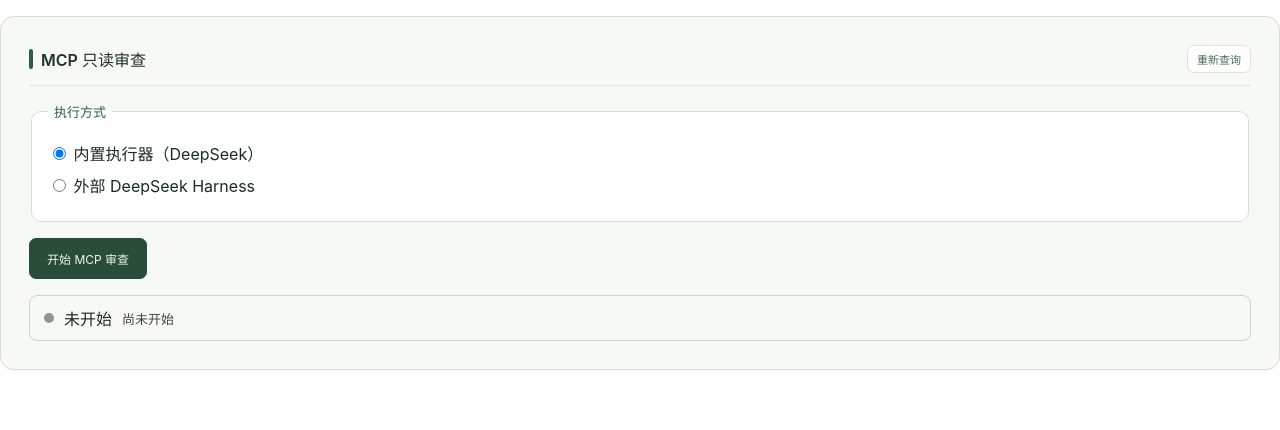
Test: MCP 审查状态 › 服务端未确认执行方式时不将任务冒认为外部 Harness
The image size is (1280, 430).
Click the radio button labelled "外部 DeepSeek Harness" at x=60, y=186, box 53,179 -> 66,192
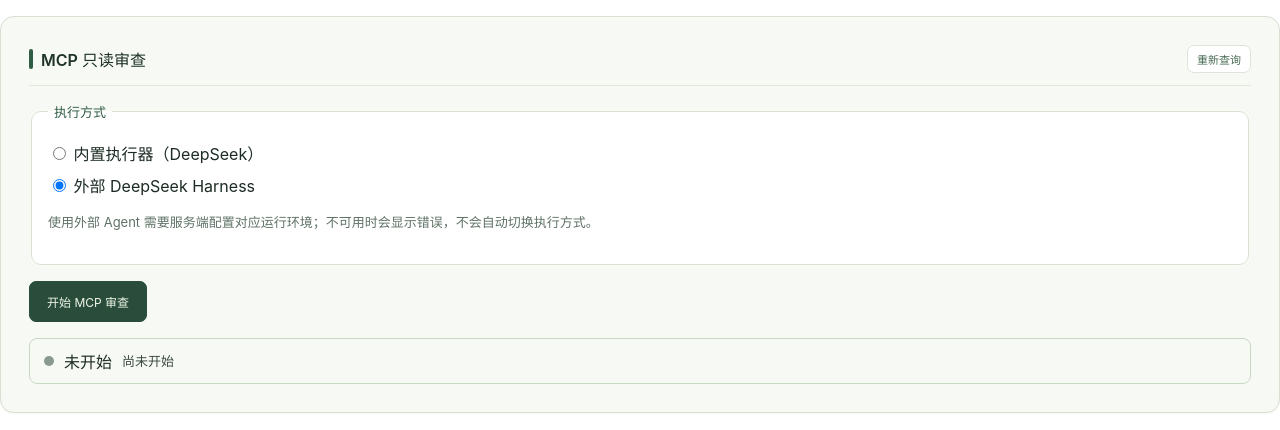
Click the button "开始 MCP 审查" at x=88, y=301, box 29,281 -> 147,322
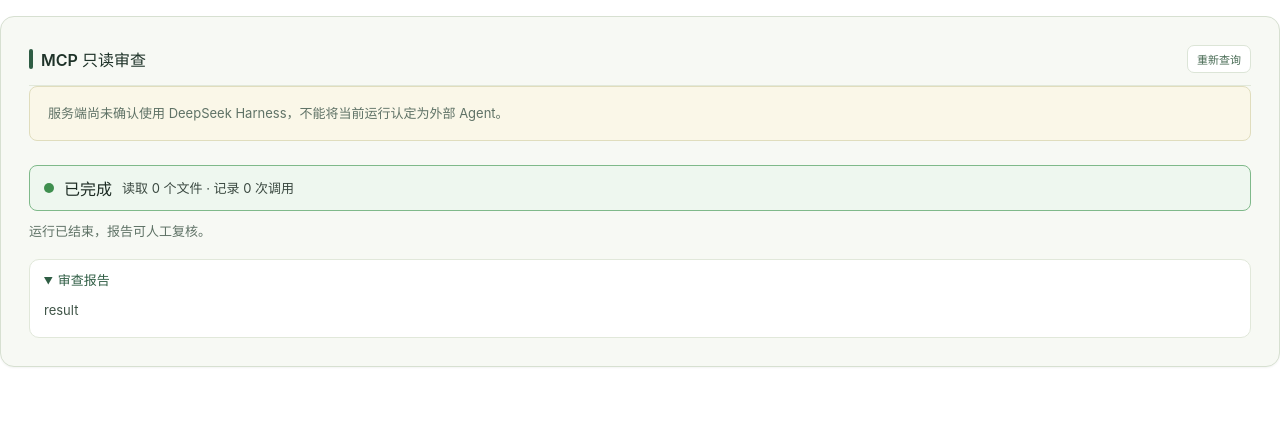
Check: the text "服务端尚未确认使用 DeepSeek Harness" is shown, box 48,105 -> 509,121
